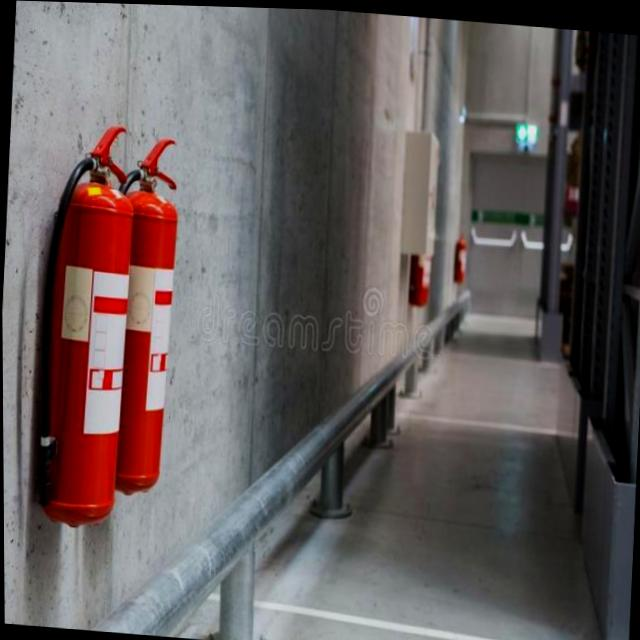FireExtinguisher: (21, 108, 143, 538), (97, 125, 191, 500), (400, 187, 440, 309), (448, 223, 471, 285)
